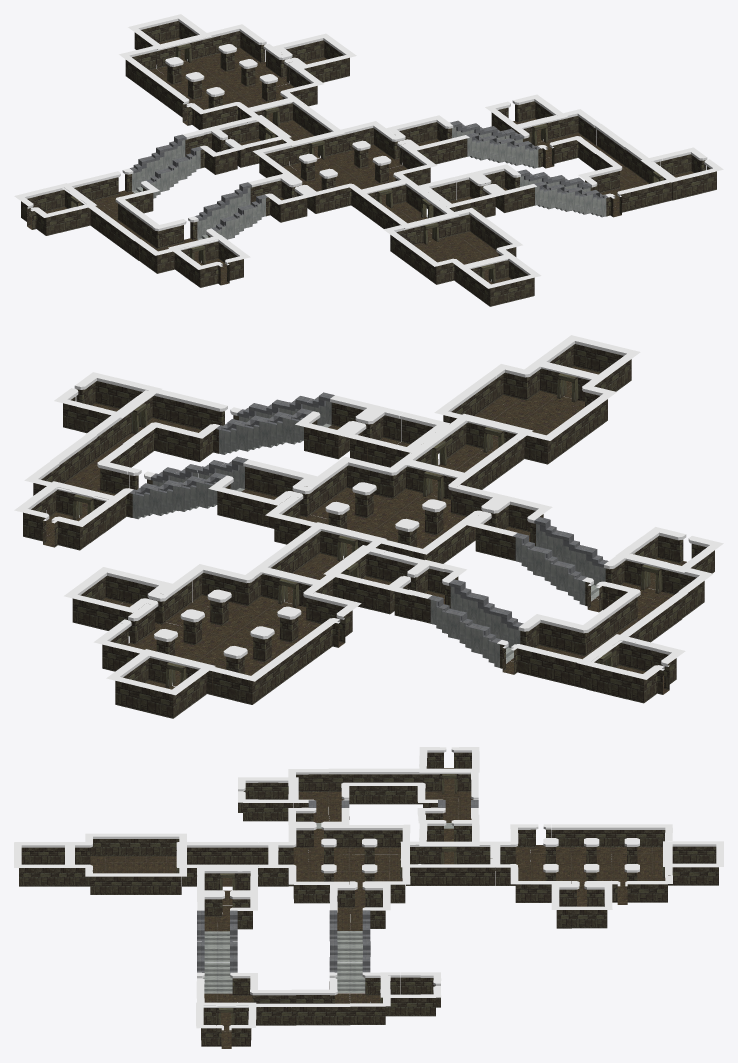
Rendered from fire_level_test_01.fbx.
3 views of the same model, one above another, from view 1: azimuth 30°, elevation 25°; view 2: azimuth 150°, elevation 25°; view 3: azimuth 270°, elevation 25° (orthographic). The views are drawn at different scales.
Visible parts, largest first — view 1: fire_level; view 2: fire_level; view 3: fire_level.
Part boxes in pixels (x1,y1,x2,y2): fire_level: (14,14,723,306); fire_level: (14,335,723,718); fire_level: (14,747,723,1048).
Size of the model in its own units: 127498 by 10563 by 139654.
